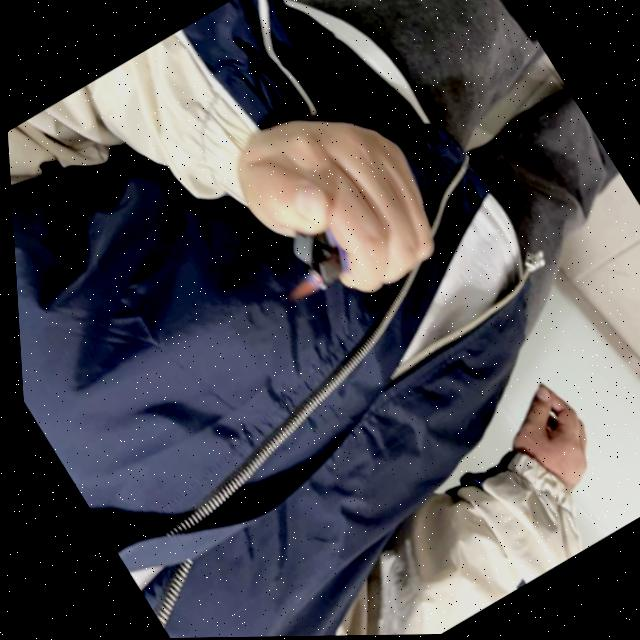Fire: (282, 273, 322, 307)
